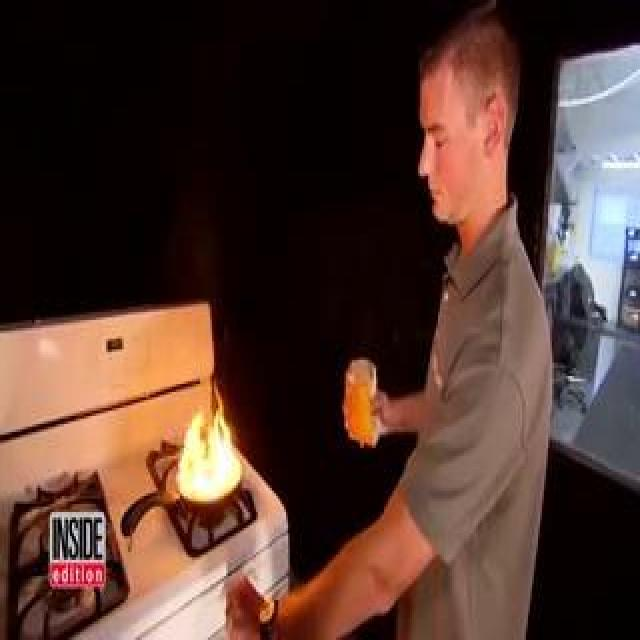Fire: (68, 170, 208, 424)
